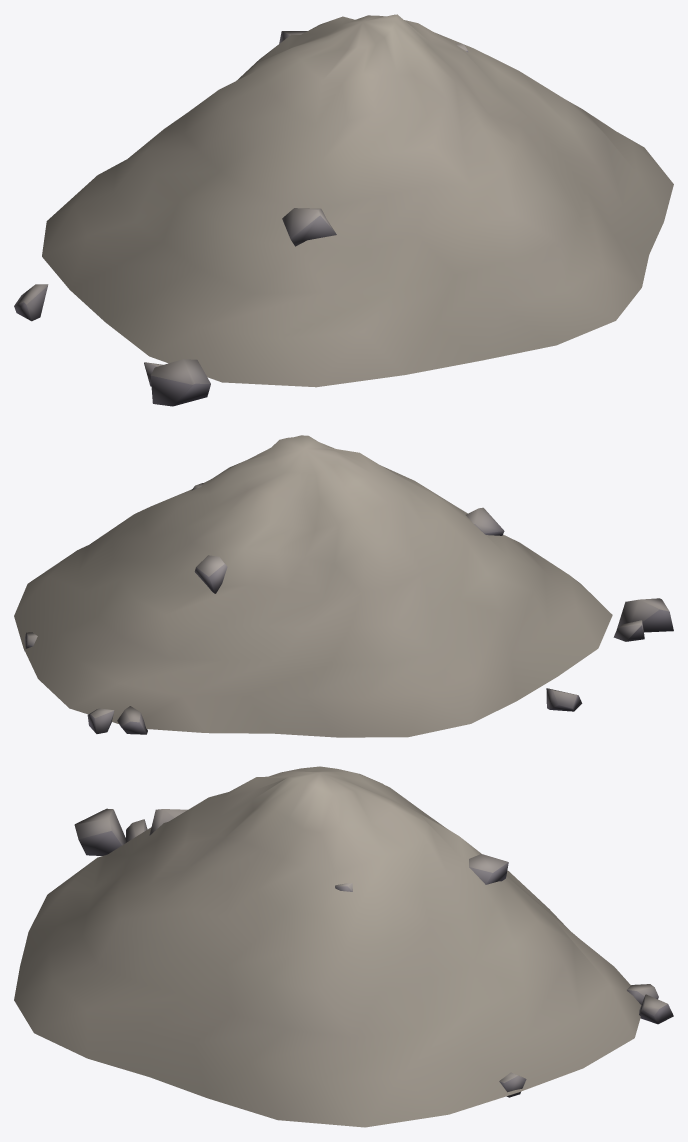
Rendered from GravelPile.fbx.
3 renders of one model, top to bottom at view 1: azimuth 30°, elevation 25°; view 2: azimuth 150°, elevation 25°; view 3: azimuth 270°, elevation 25°, orthographic. The views are drawn at different scales.
Parts seen in each view (by area): view 1: GravelPile; view 2: GravelPile; view 3: GravelPile.
Boxes of the visible parts, bbox=[...] form: GravelPile: bbox=[14, 14, 673, 406]; GravelPile: bbox=[14, 435, 673, 737]; GravelPile: bbox=[14, 766, 673, 1127].
Size of the model in its own units: 2.26 by 0.7513 by 2.09.
